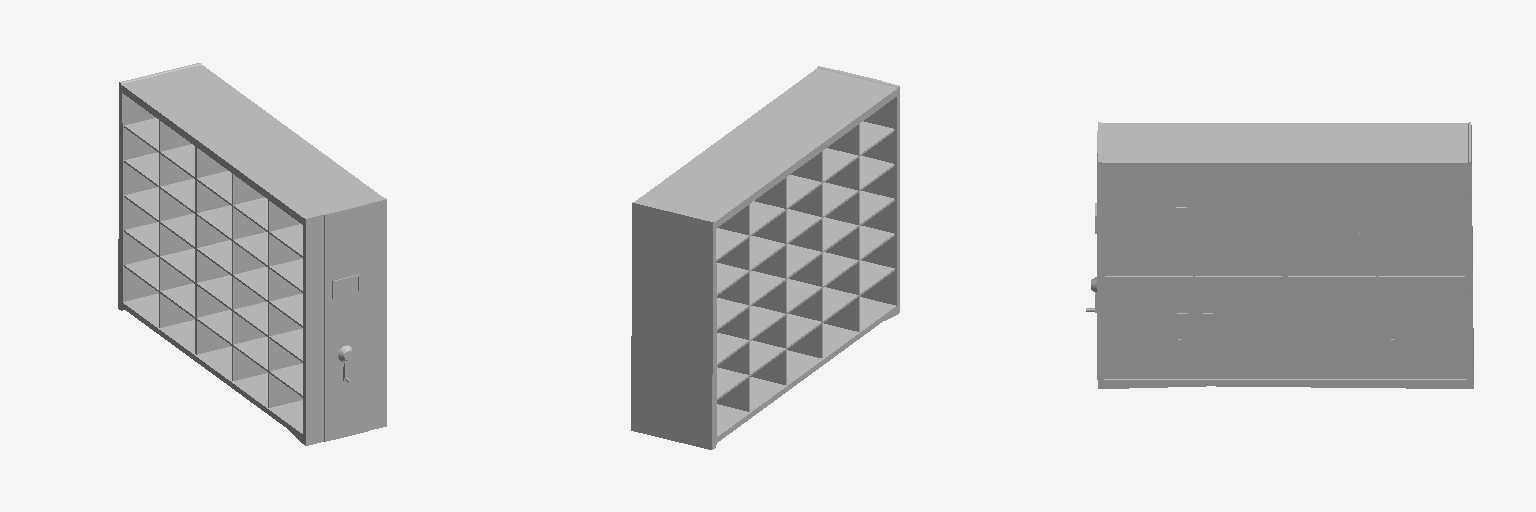
Rendered from mjjright6-5.obj.
The picture shows the model from 3 angles: view 1: azimuth 30°, elevation 25°; view 2: azimuth 150°, elevation 25°; view 3: azimuth 270°, elevation 25°; orthographic projection.
Parts seen in each view (by area): view 1: mjj, Mesh02; view 2: mjj; view 3: mjj.
Boxes of the visible parts, x1=… form: mjj: x1=118, y1=63, x2=386, y2=445; Mesh02: x1=332, y1=274, x2=360, y2=298; mjj: x1=631, y1=66, x2=899, y2=449; mjj: x1=1097, y1=122, x2=1473, y2=388.
Bounding box in the file's own units: 35.84 × 94.93 × 147.